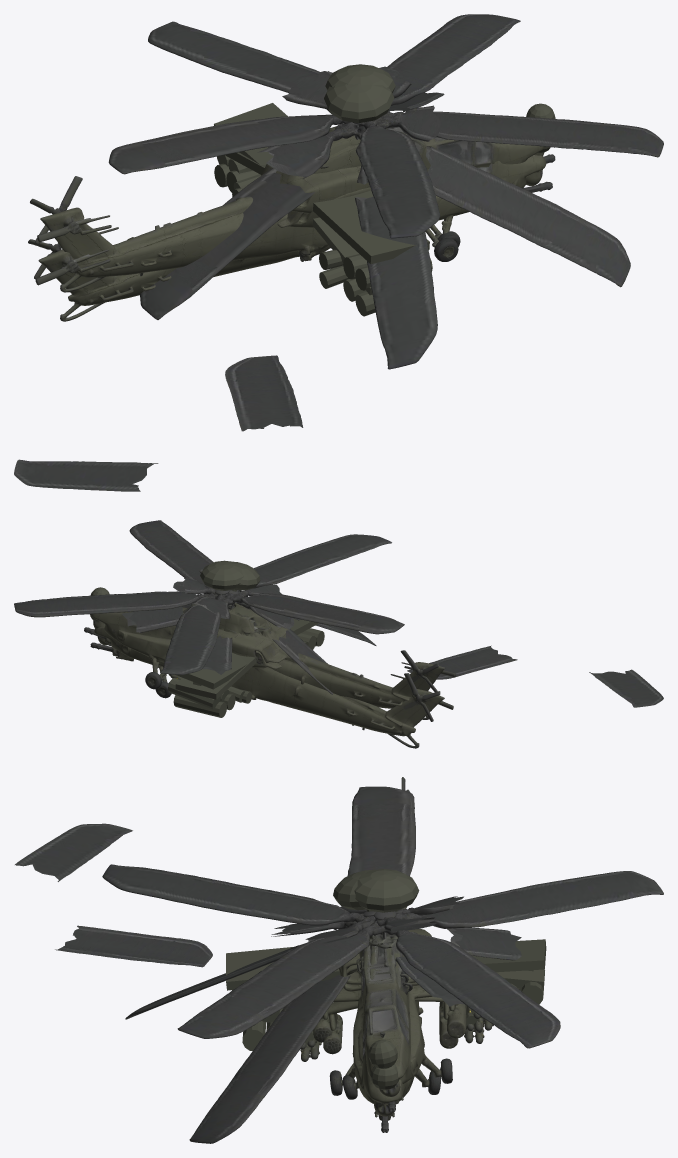
Rendered from heli_peten_gunship.glb.
3 renders of one model, top to bottom at view 1: azimuth 30°, elevation 25°; view 2: azimuth 150°, elevation 25°; view 3: azimuth 270°, elevation 25°, orthographic. The views are drawn at different scales.
Visible parts, largest first — view 1: WRECK_rotor_metal, rotor_metal, hull_hull, WRECK_hull_hull, stores_hull, WRECK_stores_metal, stores_metal, WRECK_stores_hull, WRECK_hull_glass; view 2: rotor_metal, WRECK_hull_hull, WRECK_rotor_metal, hull_hull, stores_metal, stores_hull, WRECK_stores_hull, hull_glass, WRECK_stores_metal; view 3: rotor_metal, WRECK_rotor_metal, WRECK_hull_hull, hull_hull, stores_metal, stores_hull, WRECK_stores_metal, WRECK_stores_hull, WRECK_hull_glass, hull_glass, WRECK_sensor_glass, sensor_glass.
Boxes of the visible parts, x1,y1,x2,y2 form: WRECK_rotor_metal: [14, 66, 630, 491]; rotor_metal: [108, 14, 663, 238]; hull_hull: [30, 155, 546, 292]; WRECK_hull_hull: [28, 137, 543, 321]; stores_hull: [225, 152, 429, 269]; WRECK_stores_metal: [217, 83, 394, 316]; stores_metal: [214, 64, 432, 290]; WRECK_stores_hull: [214, 103, 372, 295]; WRECK_hull_glass: [313, 127, 421, 173]; rotor_metal: [14, 520, 404, 674]; WRECK_hull_hull: [91, 607, 453, 748]; WRECK_rotor_metal: [122, 569, 663, 707]; hull_hull: [94, 621, 455, 719]; stores_metal: [173, 560, 324, 717]; stores_hull: [175, 618, 318, 703]; WRECK_stores_hull: [175, 641, 316, 702]; hull_glass: [219, 603, 273, 635]; WRECK_stores_metal: [168, 561, 260, 709]; rotor_metal: [102, 786, 663, 1048]; WRECK_rotor_metal: [15, 823, 521, 1143]; WRECK_hull_hull: [300, 906, 493, 1099]; hull_hull: [313, 777, 484, 1117]; stores_metal: [262, 869, 521, 1022]; stores_hull: [226, 947, 544, 1028]; WRECK_stores_metal: [242, 869, 544, 1050]; WRECK_stores_hull: [232, 939, 546, 1044]; WRECK_hull_glass: [356, 935, 396, 979]; hull_glass: [360, 930, 410, 980]; WRECK_sensor_glass: [368, 1039, 397, 1068]; sensor_glass: [370, 1064, 399, 1090].
Size of the model in its own units: 6.1 by 1.54 by 4.78.
Materials: 1 (1 with a texture image).
